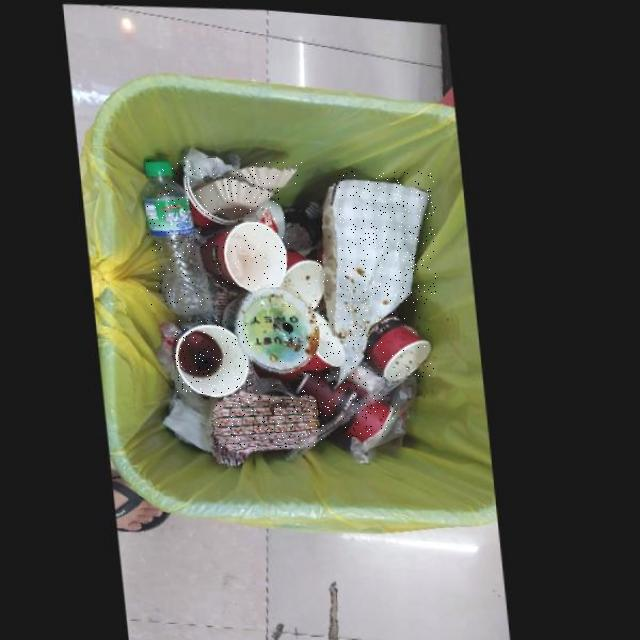paper: (338, 171, 436, 376), (215, 385, 324, 448), (206, 216, 293, 287), (176, 320, 252, 393), (279, 305, 349, 374), (370, 303, 436, 374), (300, 367, 371, 417), (200, 174, 279, 214), (343, 393, 397, 436), (284, 254, 329, 302), (233, 160, 303, 187)
plastic: (147, 157, 216, 312)
